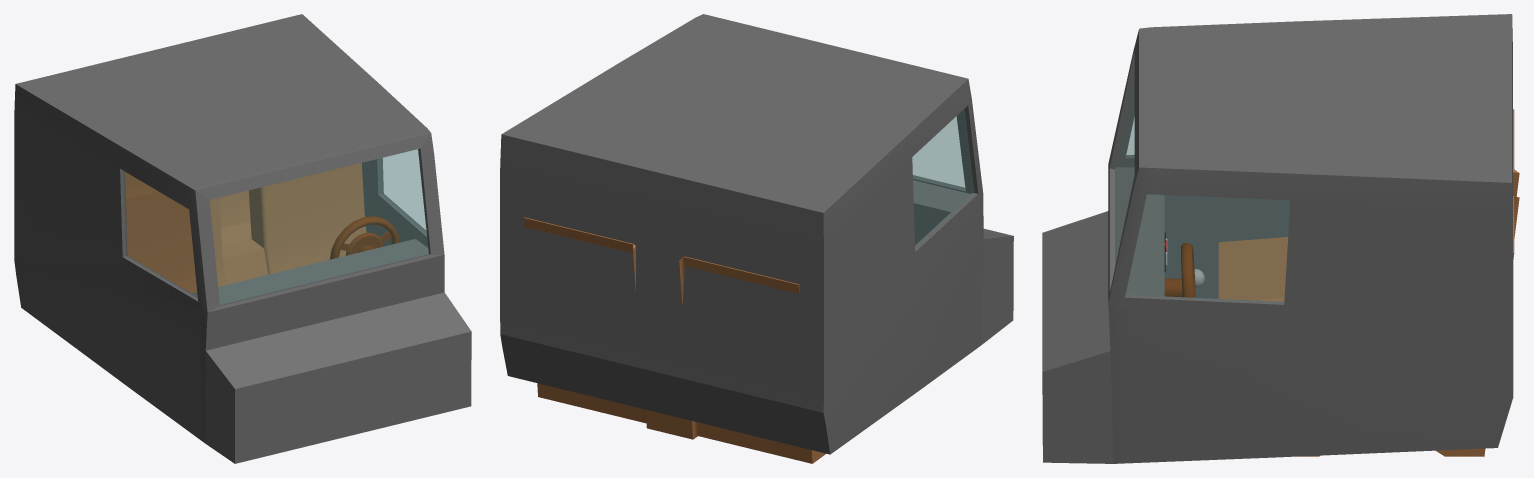
Rendered from Truck Cabin.fbx.
3 views of the same model, side by side, from view 1: azimuth 30°, elevation 25°; view 2: azimuth 150°, elevation 25°; view 3: azimuth 270°, elevation 25° (orthographic). The views are drawn at different scales.
Visible parts, largest first — view 1: CabinSides, Cabin_Top, InnerWindows, Seat_Back, Dashboard, SteringWheel, Seat_Back1, Seat_Btm1; view 2: Cabin_Top, CabinSides, InnerWindows, Seat_Btm1, Seat_Back1, Dashboard; view 3: CabinSides, Cabin_Top, InnerWindows, Seat_Btm, Dashboard, SteringWheel, Seat_Back1.
Part boxes in pixels (x1,y1,x2,y2): CabinSides: (14,84,471,463); Cabin_Top: (16,14,430,190); InnerWindows: (124,149,428,304); Seat_Back: (125,163,366,293); Dashboard: (192,239,428,304); SteringWheel: (330,216,399,259); Seat_Back1: (125,172,250,228); Seat_Btm1: (221,221,251,246); Cabin_Top: (500,14,967,397); CabinSides: (500,79,1013,454); InnerWindows: (912,109,973,246); Seat_Btm1: (537,383,825,463); Seat_Back1: (524,217,799,305); Dashboard: (913,180,970,234); CabinSides: (1042,30,1513,463); Cabin_Top: (1139,14,1512,210); InnerWindows: (1115,80,1289,302); Seat_Btm: (1218,237,1319,456); Dashboard: (1115,167,1164,296); SteringWheel: (1164,243,1195,297); Seat_Back1: (1513,109,1519,261).
Bounding box in the file's own units: 1.9 × 1.54 × 2.25.
